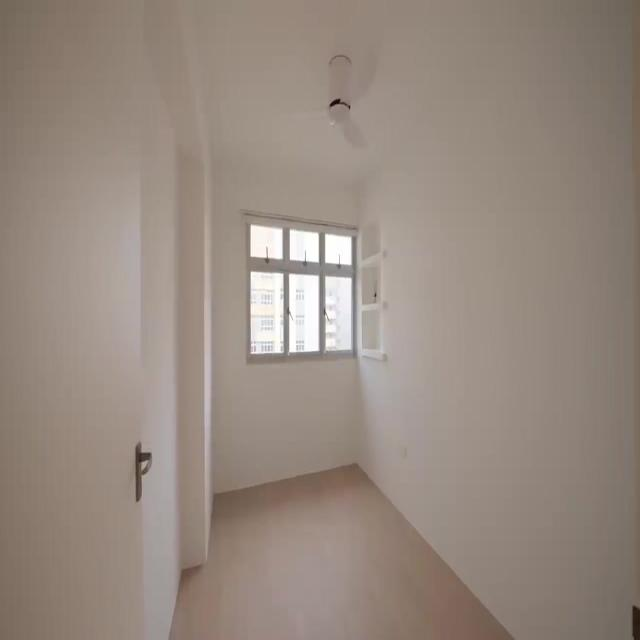door: (0, 0, 155, 637)
